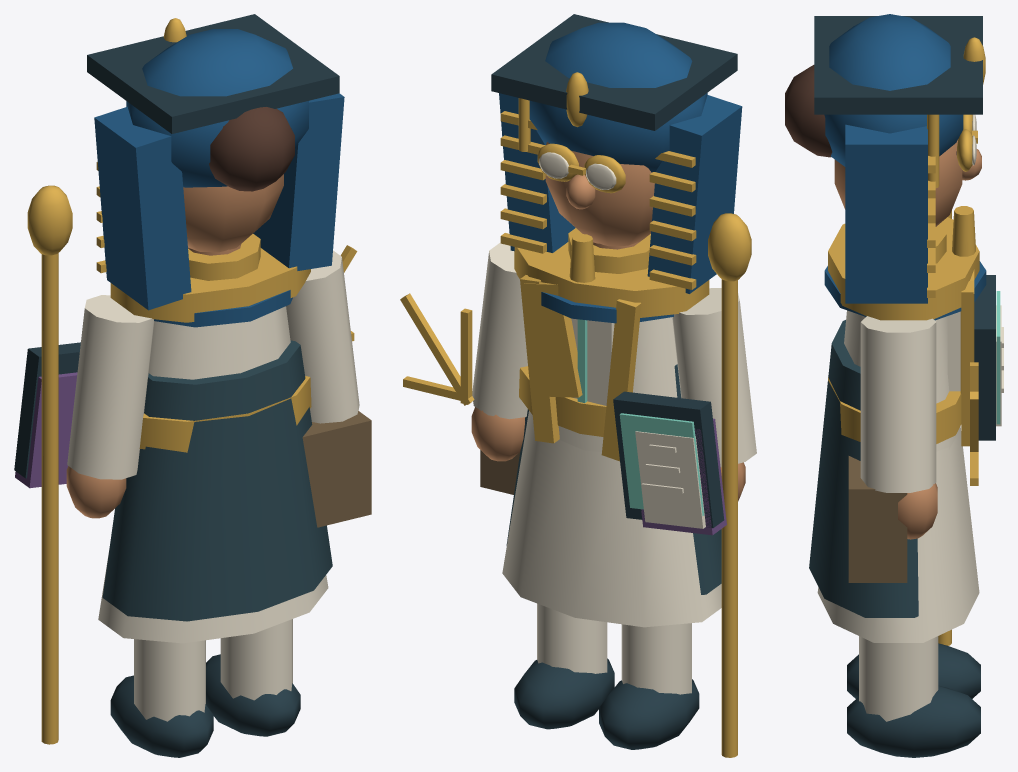
File: scholar.glb
3 renders of one model, left to right at view 1: azimuth 30°, elevation 25°; view 2: azimuth 150°, elevation 25°; view 3: azimuth 270°, elevation 25°, orthographic. The views are drawn at different scales.
Parts seen in each view (by area): view 1: academic-gown, nemes-drape (×2), sleeve (×2), nemes-crown, academic-cap, sceptre, shoe (×2), torso, satchel, hair-bun, left_leg, broad-collar (+10 smaller); view 2: linen-kilt, sleeve (×2), nemes-drape (×2), nemes-crown, academic-cap, shoe (×2), sceptre, broad-collar, academic-stole (×2), head, book-pages, tablet (+22 smaller); view 3: nemes-drape, sleeve, academic-gown, linen-kilt, nemes-crown, academic-cap, shoe (×2), satchel, right_leg, broad-collar, tablet, hair-bun (+13 smaller).
Boxes of the visible parts, x1,y1,x2,y2 form: academic-gown: (102,340,332,621); nemes-drape (×2): (94,93,344,310); sleeve (×2): (67,250,359,479); nemes-crown: (126,29,308,187); academic-cap: (87,14,339,133); sceptre: (41,253,58,744); shoe (×2): (110,654,300,757); torso: (149,306,290,379); satchel: (302,411,371,527); hair-bun: (209,107,294,191); left_leg: (134,639,205,721); broad-collar: (110,248,310,322); linen-kilt: (502,411,721,627); sleeve (×2): (472,242,756,467); nemes-drape (×2): (499,93,742,293); nemes-crown: (529,22,707,172); academic-cap: (491,14,737,130); shoe (×2): (514,658,699,749); sceptre: (721,279,737,757); broad-collar: (514,242,709,317); academic-stole (×2): (520,275,641,461); head: (545,142,654,246); book-pages: (635,431,705,528); tablet: (613,391,724,528); nemes-drape: (845,124,927,303); sleeve: (860,316,936,492); academic-gown: (809,320,918,617); linen-kilt: (817,429,979,642); nemes-crown: (824,14,963,166); academic-cap: (814,16,982,114); shoe (×2): (847,643,980,757); satchel: (848,456,907,582); right_leg: (859,636,938,721); broad-collar: (828,217,979,320); tablet: (974,275,995,440); hair-bun: (785,65,832,157).
Bounding box in the file's own units: 1.14 × 2.26 × 0.6358.
